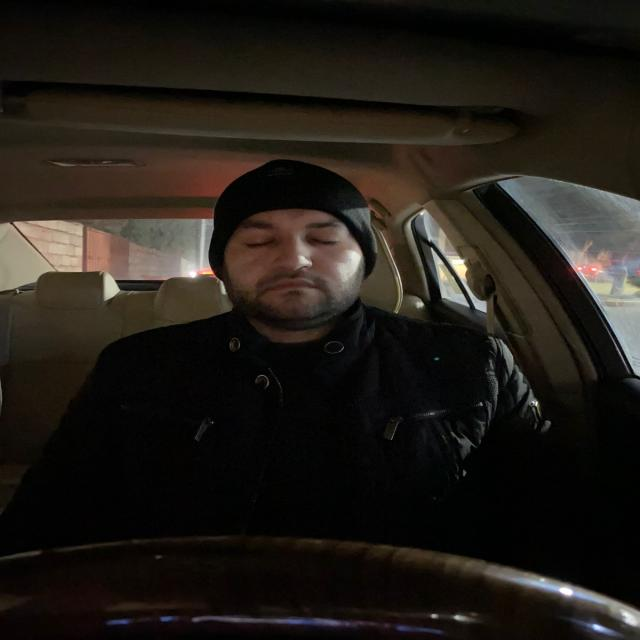drowsy: (215, 170, 374, 326)
